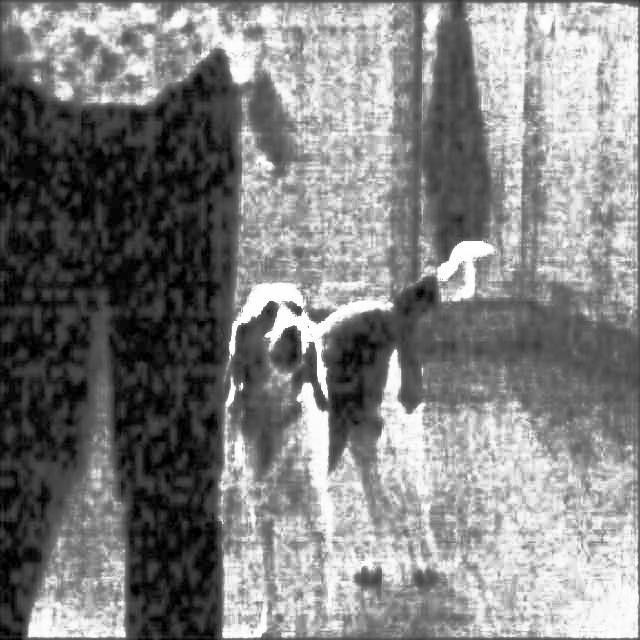Dog: (222, 235, 488, 640)
